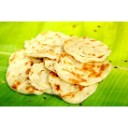parota: (32, 63, 96, 102), (56, 52, 116, 87), (62, 35, 112, 64), (22, 33, 67, 63)
